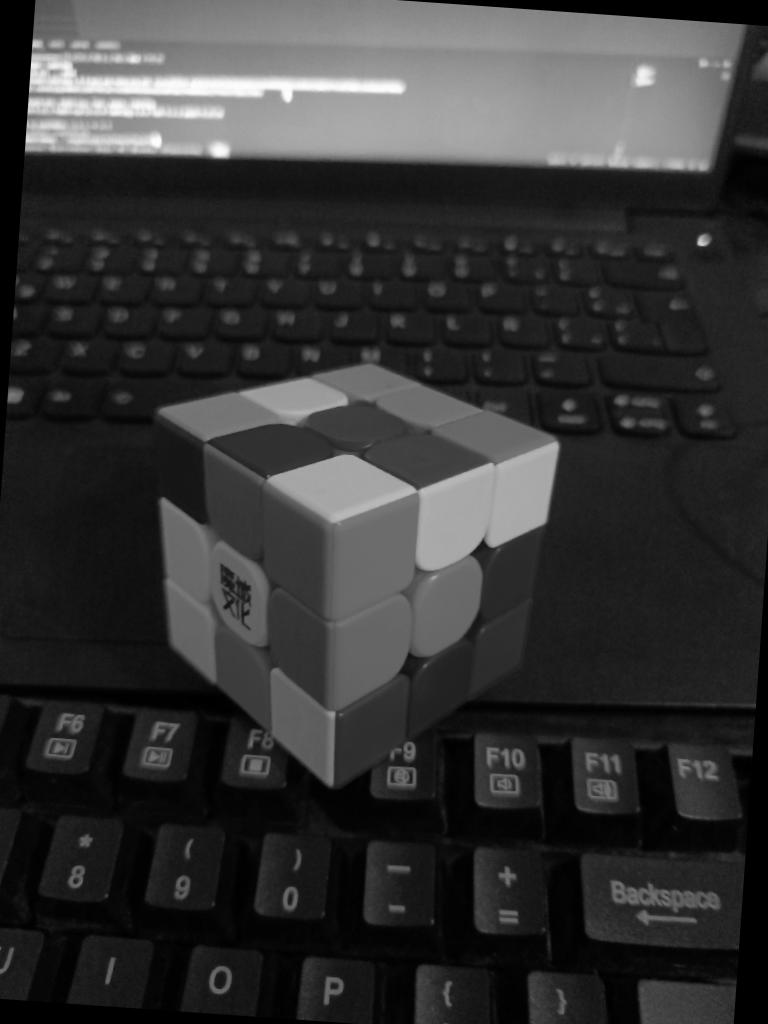rubik: (125, 344, 566, 802)
